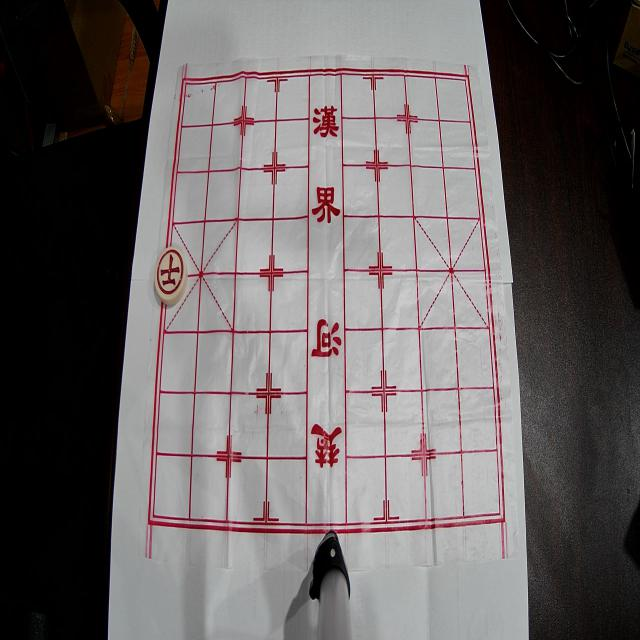red-guard: (154, 247, 188, 305)
